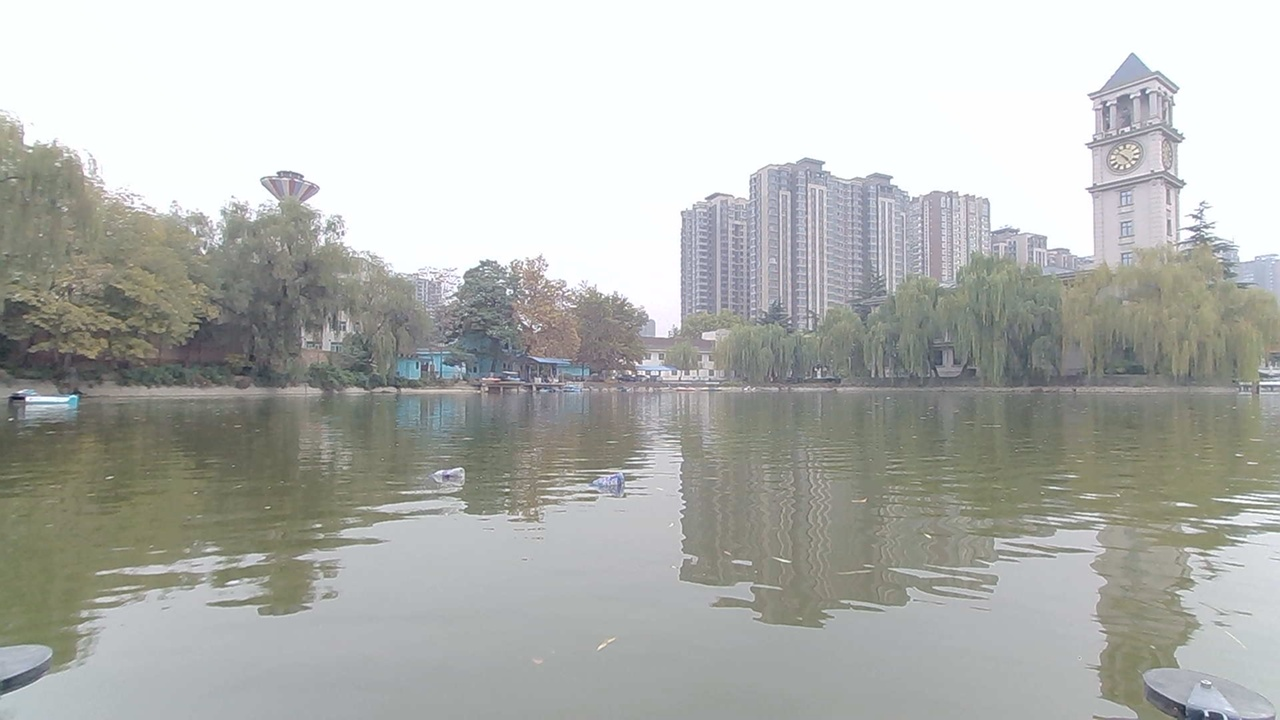bottle: (427, 461, 466, 487), (596, 476, 629, 493)
